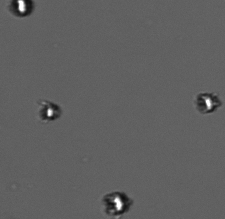Living Cell: (105, 190, 130, 215), (197, 92, 220, 115), (40, 100, 61, 121), (9, 1, 33, 17)
